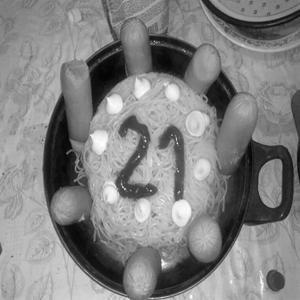pasta: (43, 58, 251, 274)
